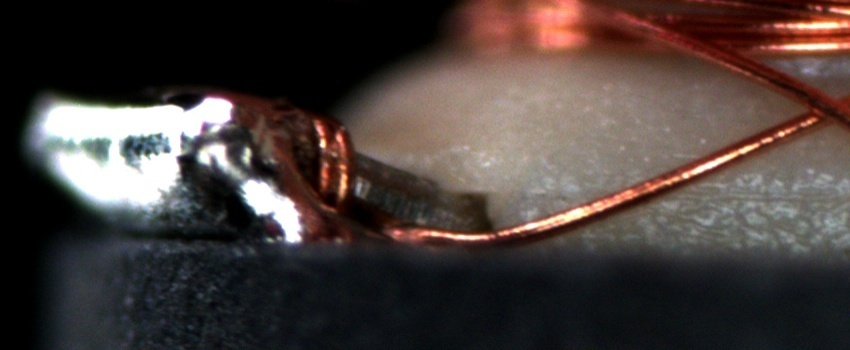CL: (780, 79, 846, 132)
DL: (515, 166, 850, 215)
TE: (261, 88, 369, 230)
